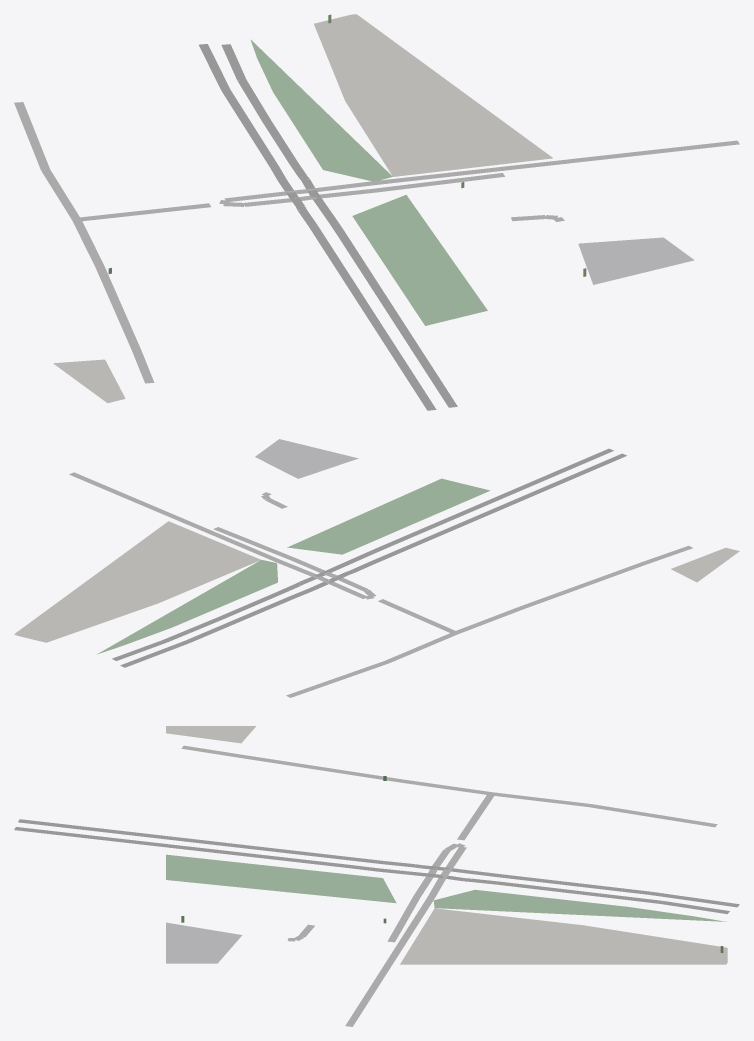
The picture shows the model from 3 angles, top to bottom: view 1: azimuth 30°, elevation 25°; view 2: azimuth 150°, elevation 25°; view 3: azimuth 270°, elevation 25°; orthographic projection. The views are drawn at different scales.
Bounding box in the file's own units: 632 × 8.35 × 646.
